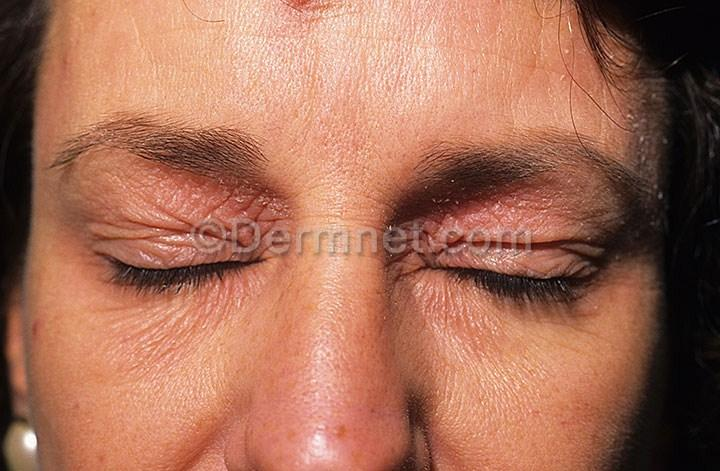edema 1: (89, 156, 291, 270), (407, 172, 612, 282)
xerosis 1: (617, 81, 674, 196)
